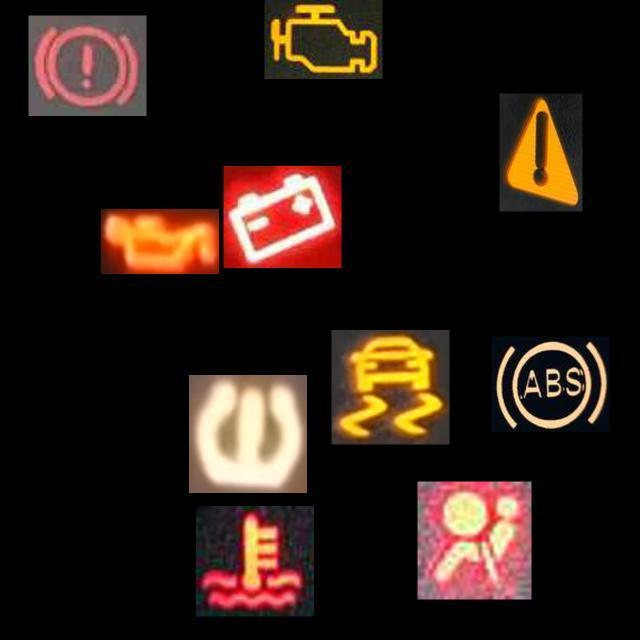Central Warning lamp: (500, 94, 582, 212)
Engine cooling system: (196, 506, 314, 616)
